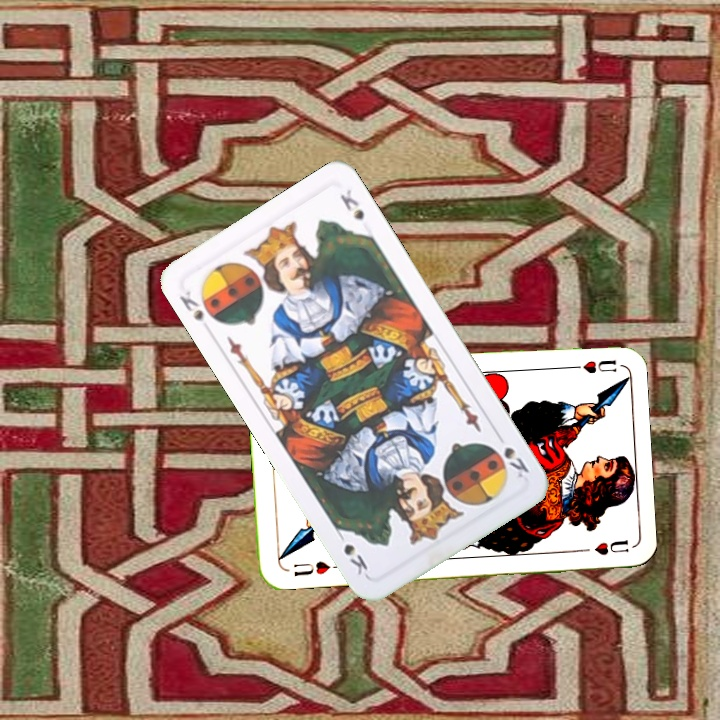HU: (561, 356, 619, 377), (289, 557, 341, 579)
SK: (499, 443, 532, 481), (175, 287, 207, 324)
